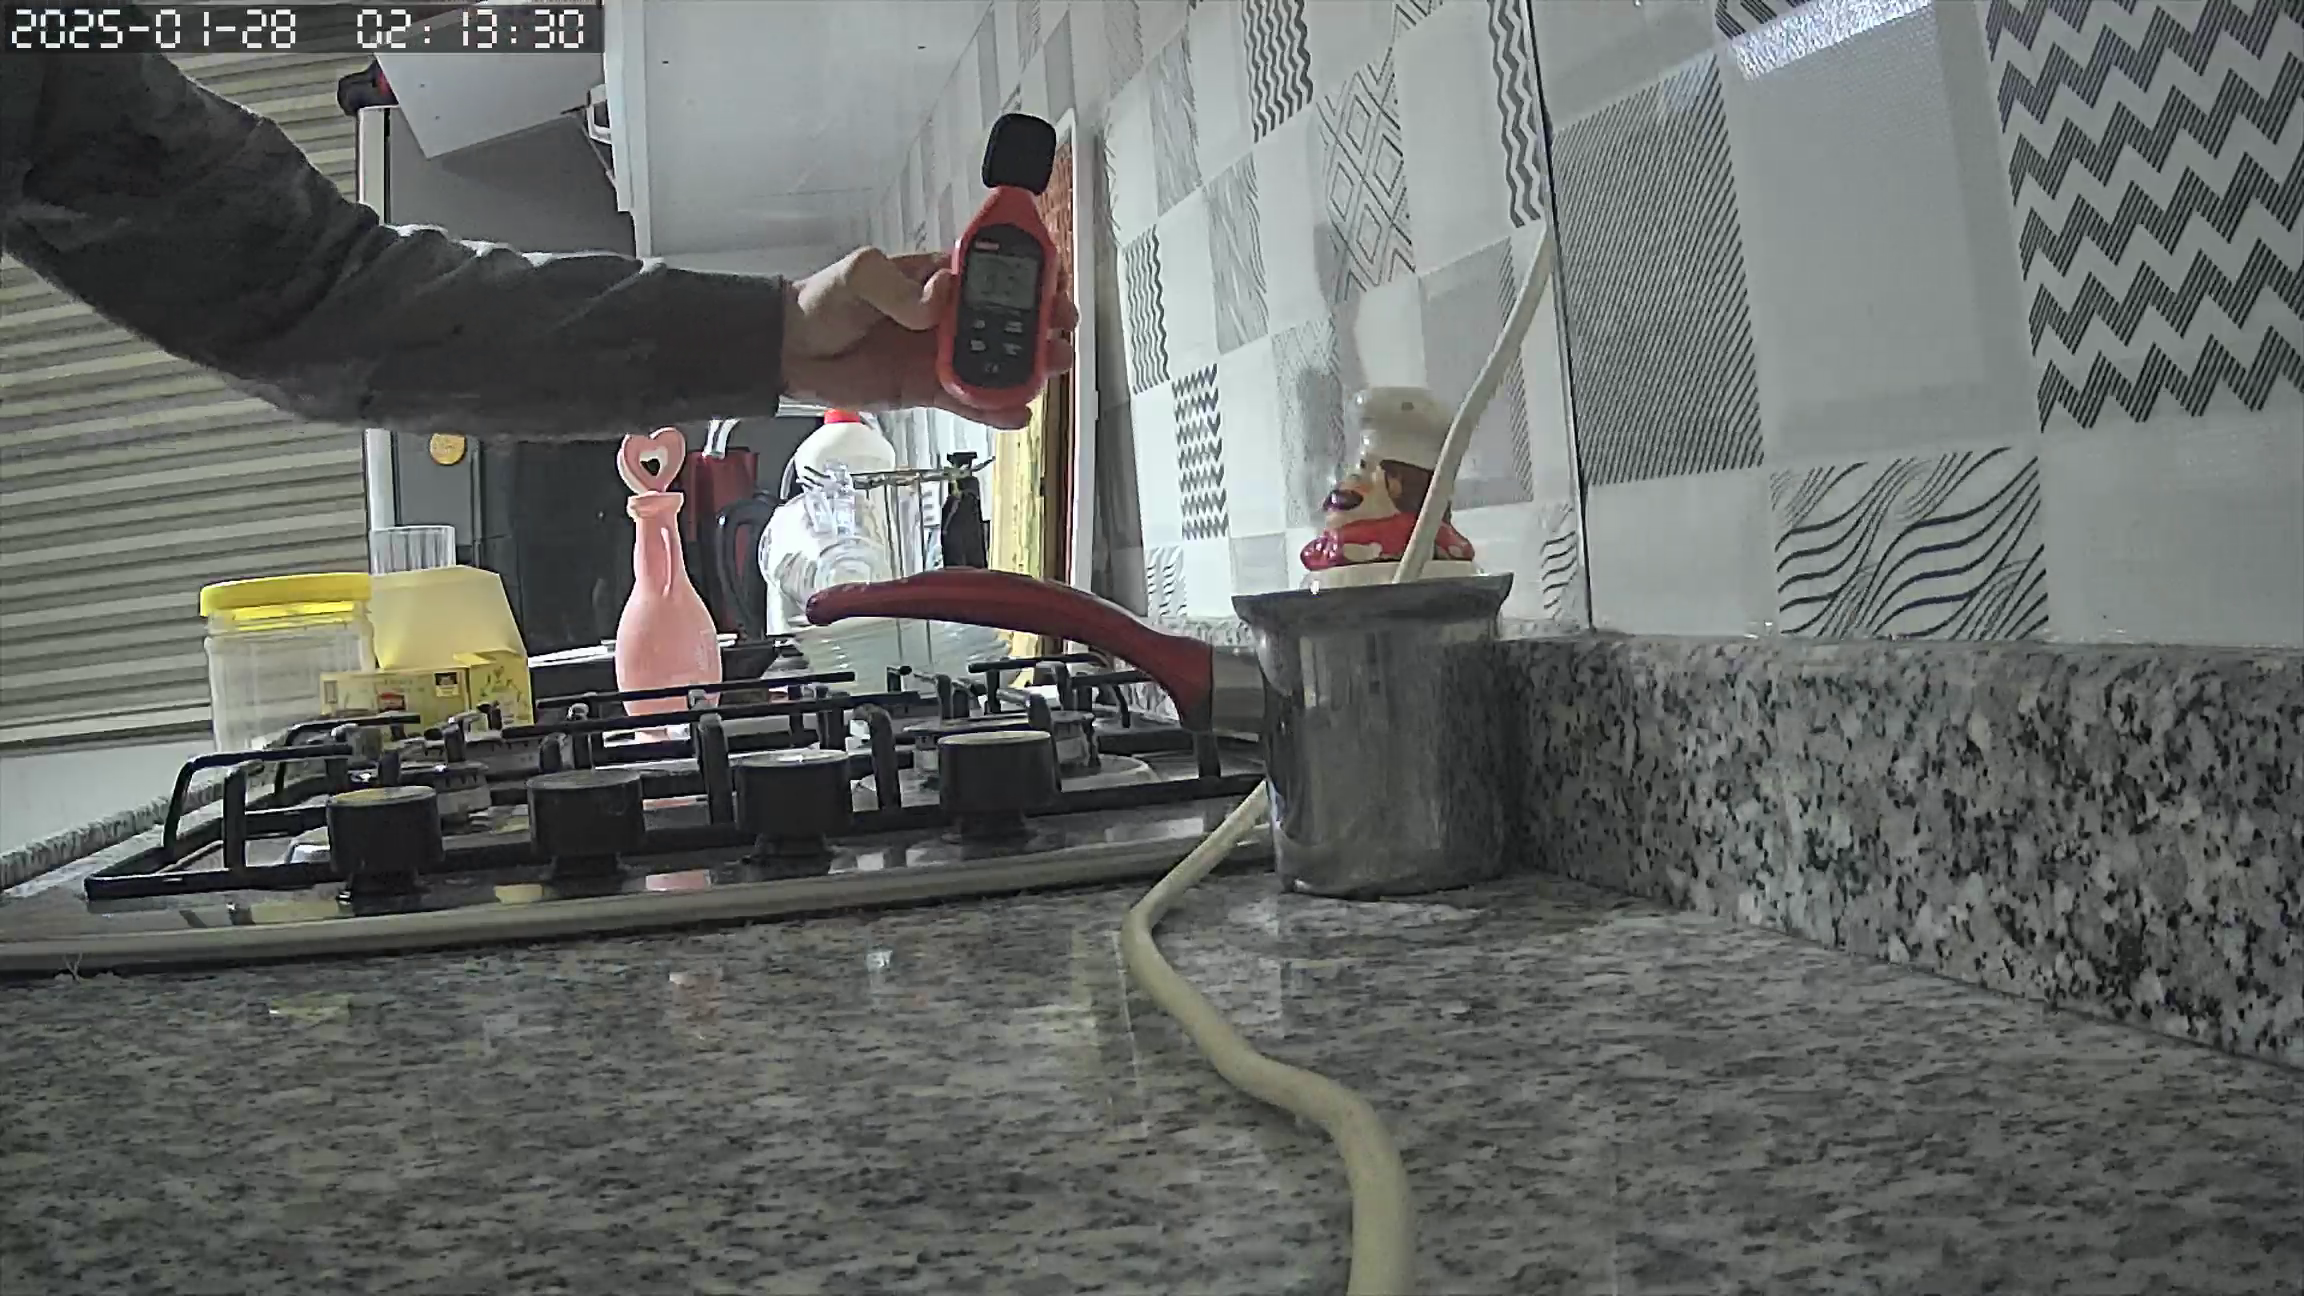screen: (962, 252, 1040, 305)
